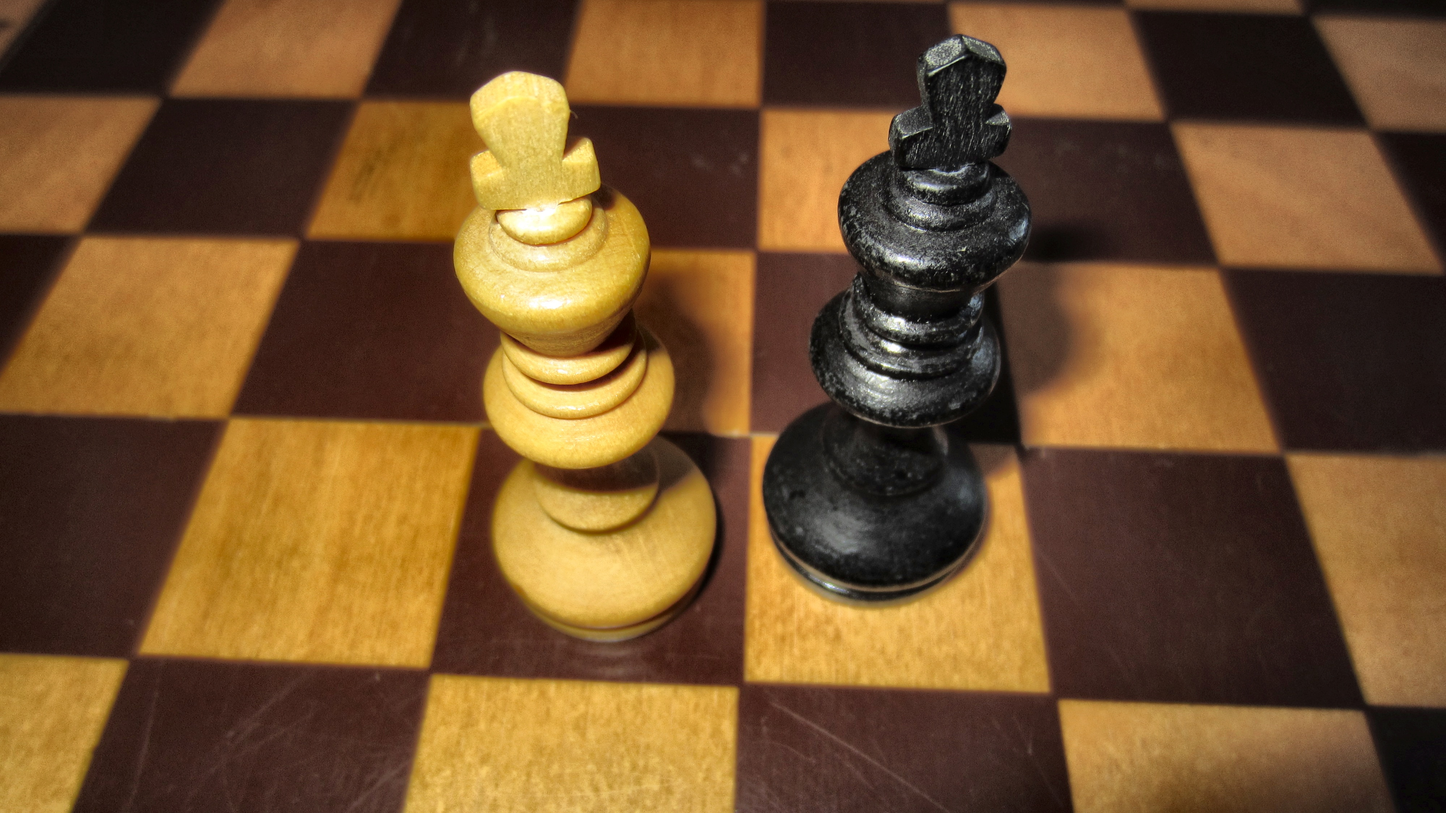black-king: (755, 32, 1036, 609)
white-king: (449, 63, 728, 647)
